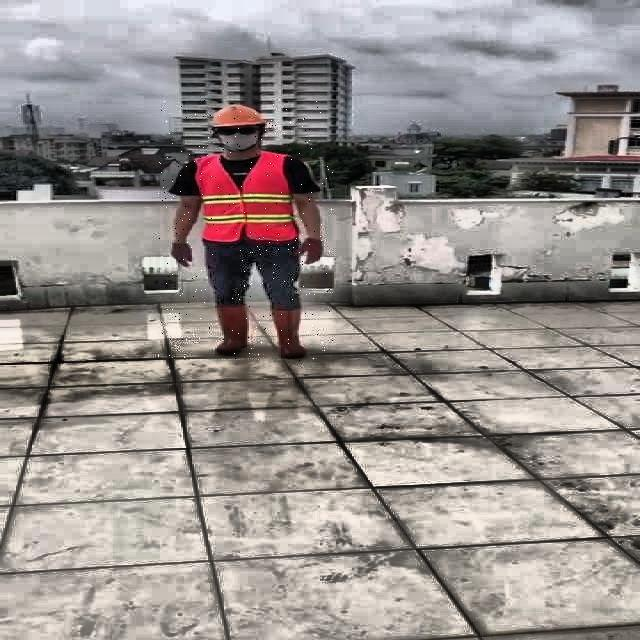safety_helmet: (208, 102, 262, 128)
safety_jacket: (196, 156, 295, 243)
